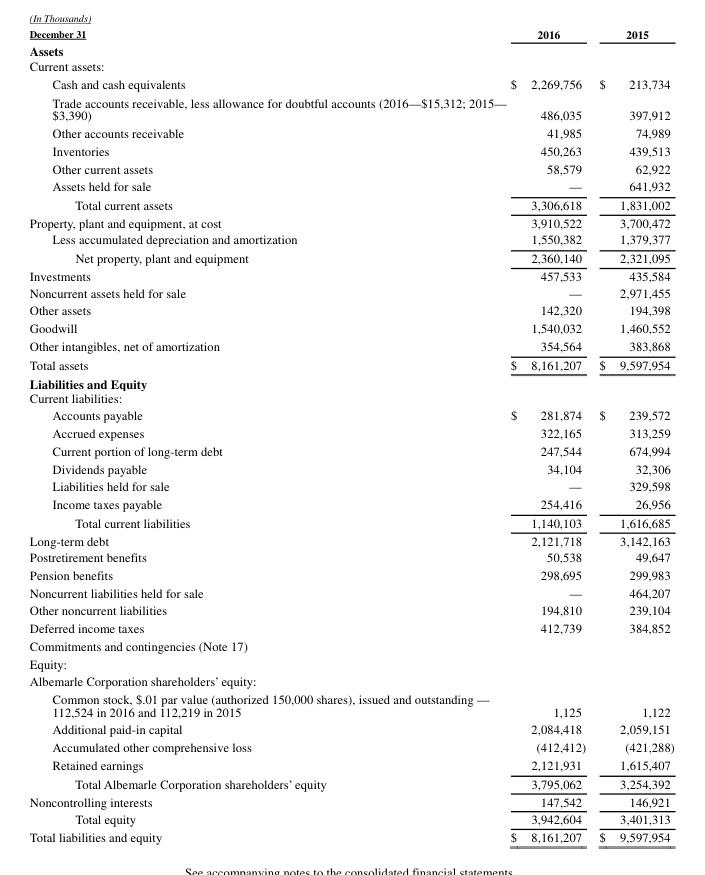table: (28, 28, 673, 843)
table column: (28, 28, 507, 843), (507, 28, 591, 843), (591, 28, 673, 843)
table column header: (28, 28, 673, 42)
table projected row header: (28, 637, 673, 655), (28, 655, 673, 673), (28, 42, 673, 59), (28, 374, 673, 391), (28, 673, 673, 690), (28, 59, 673, 75), (28, 391, 673, 407)
table row: (28, 93, 673, 124), (28, 690, 673, 721), (28, 355, 673, 374), (28, 495, 673, 514), (28, 774, 673, 793), (28, 75, 673, 93), (28, 124, 673, 142), (28, 142, 673, 160), (28, 160, 673, 178), (28, 178, 673, 196), (28, 196, 673, 214), (28, 231, 673, 249), (28, 249, 673, 267), (28, 267, 673, 285), (28, 319, 673, 337), (28, 337, 673, 355), (28, 424, 673, 442), (28, 442, 673, 460), (28, 460, 673, 478), (28, 514, 673, 532), (28, 566, 673, 584), (28, 584, 673, 602), (28, 619, 673, 637), (28, 637, 673, 655), (28, 655, 673, 673), (28, 738, 673, 756), (28, 756, 673, 774), (28, 793, 673, 811), (28, 42, 673, 59), (28, 214, 673, 231), (28, 285, 673, 302), (28, 302, 673, 319), (28, 374, 673, 391), (28, 407, 673, 424), (28, 478, 673, 495), (28, 532, 673, 549), (28, 549, 673, 566), (28, 602, 673, 619), (28, 673, 673, 690), (28, 721, 673, 738), (28, 811, 673, 828), (28, 59, 673, 75), (28, 391, 673, 407), (28, 828, 673, 843), (28, 28, 673, 42)
